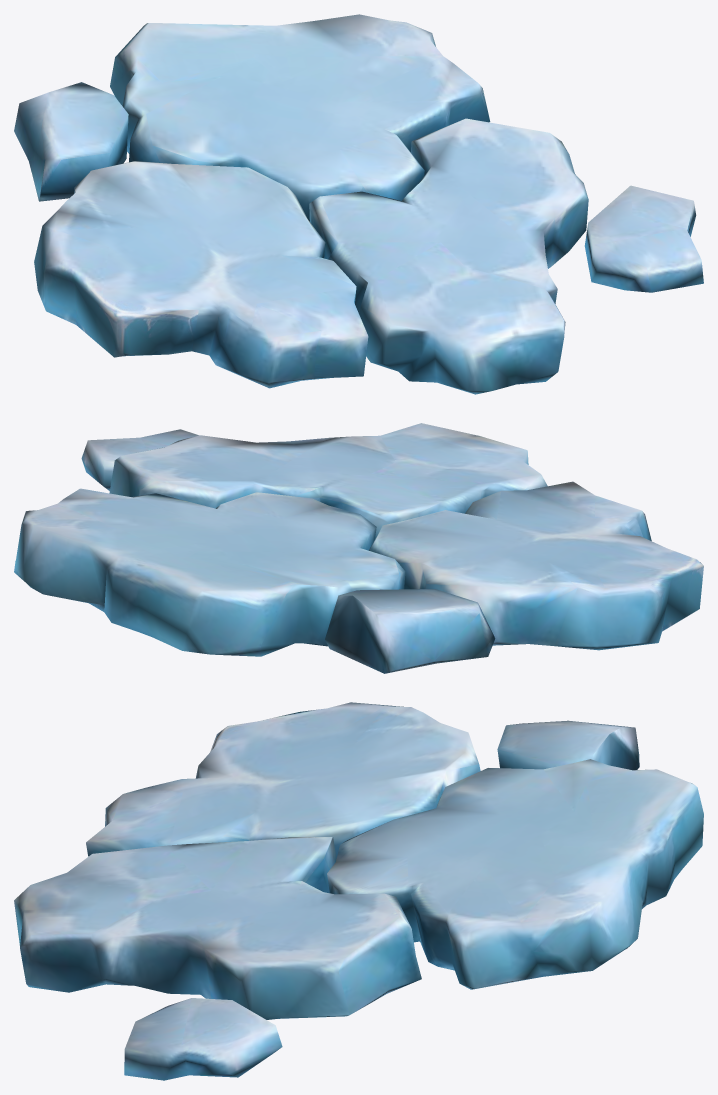
File: ice_floe.glb
3 renders of one model, top to bottom at view 1: azimuth 30°, elevation 25°; view 2: azimuth 150°, elevation 25°; view 3: azimuth 270°, elevation 25°, orthographic. The views are drawn at different scales.
Parts seen in each view (by area): view 1: ice_floe; view 2: ice_floe; view 3: ice_floe.
Boxes of the visible parts, x1=… form: ice_floe: x1=14, y1=14, x2=703, y2=394; ice_floe: x1=14, y1=423, x2=703, y2=673; ice_floe: x1=14, y1=702, x2=703, y2=1080.
Size of the model in its own units: 2 by 0.4859 by 1.89.
1 material, 1 textured.
